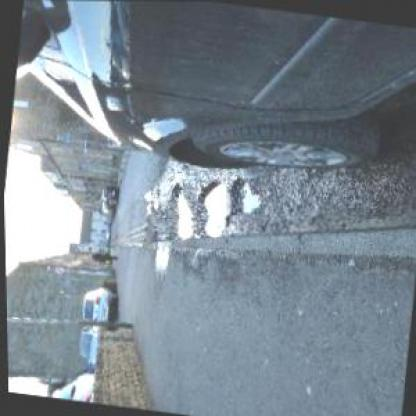pothole: (161, 182, 200, 241), (193, 179, 230, 238), (228, 176, 263, 216)
